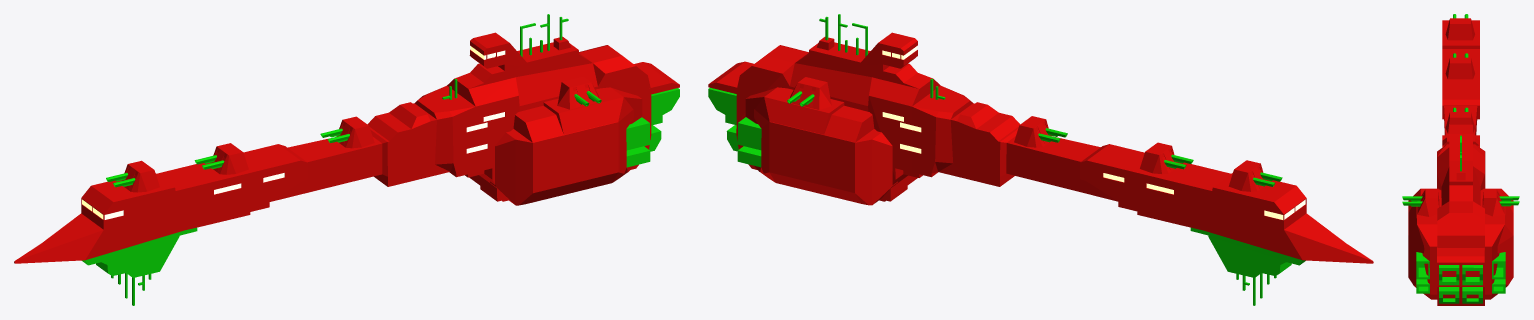
The model's file is Farsky 3D.fbx.
3 views of the same model, side by side, from view 1: azimuth 30°, elevation 25°; view 2: azimuth 150°, elevation 25°; view 3: azimuth 270°, elevation 25° (orthographic). The views are drawn at different scales.
Visible parts, largest first — view 1: PrimaryHull, TertiaryHull, Turret.002, Turret.004, Turret.003, Turret.001, SpecialHull; view 2: PrimaryHull, TertiaryHull, Turret.002, Turret, Turret.004, Turret.003, SpecialHull; view 3: PrimaryHull, TertiaryHull, Turret.001, Turret, Turret.003, Turret.004, Turret.002.
Part boxes in pixels (x1,y1,x2,y2): PrimaryHull: (14, 32, 679, 263); TertiaryHull: (82, 14, 679, 305); Turret.002: (320, 116, 374, 148); Turret.004: (106, 160, 159, 192); Turret.003: (194, 143, 248, 174); Turret.001: (557, 76, 601, 109); SpecialHull: (82, 46, 505, 219); PrimaryHull: (708, 32, 1373, 263); TertiaryHull: (708, 14, 1305, 305); Turret.002: (1014, 116, 1067, 147); Turret: (787, 77, 831, 109); Turret.004: (1228, 160, 1282, 191); Turret.003: (1140, 142, 1193, 174); SpecialHull: (882, 46, 1305, 219); PrimaryHull: (1408, 20, 1513, 305); TertiaryHull: (1416, 135, 1505, 303); Turret.001: (1402, 189, 1439, 216); Turret: (1482, 189, 1519, 216); Turret.003: (1445, 53, 1474, 79); Turret.004: (1445, 14, 1474, 40); Turret.002: (1445, 107, 1474, 133).
Bounding box in the file's own units: 561 × 156 × 105.
